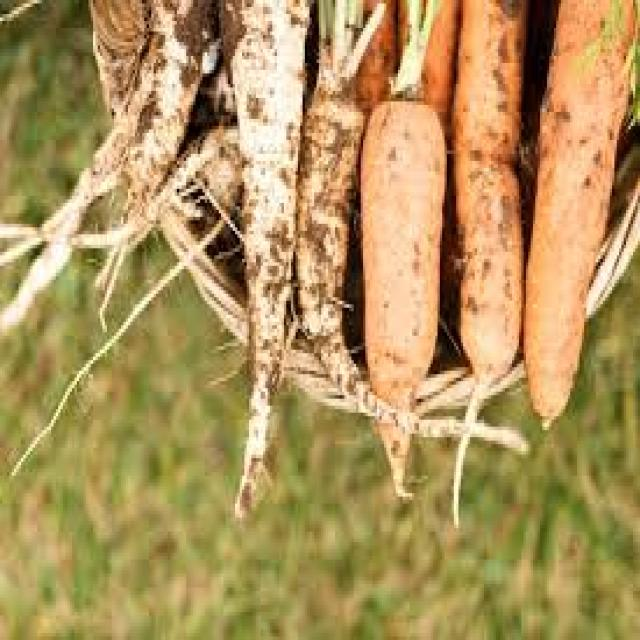Stale_Carrot: (461, 0, 522, 409)
